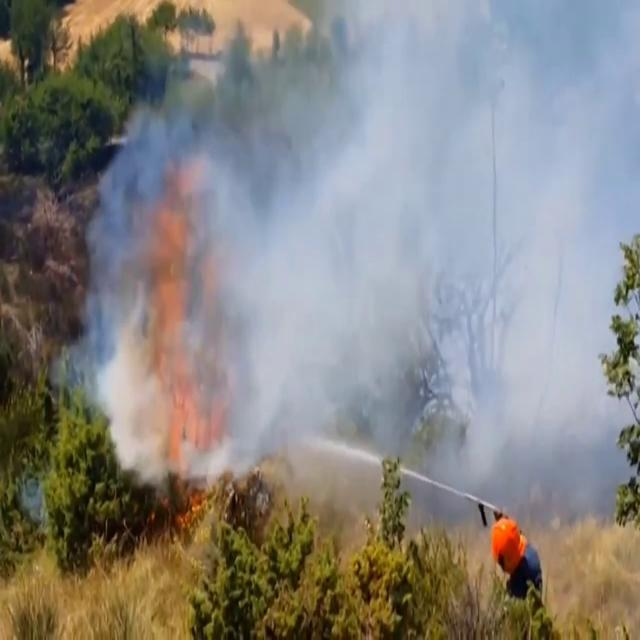Fire: (136, 218, 234, 488)
Smoke: (265, 10, 640, 489), (65, 132, 134, 448)
